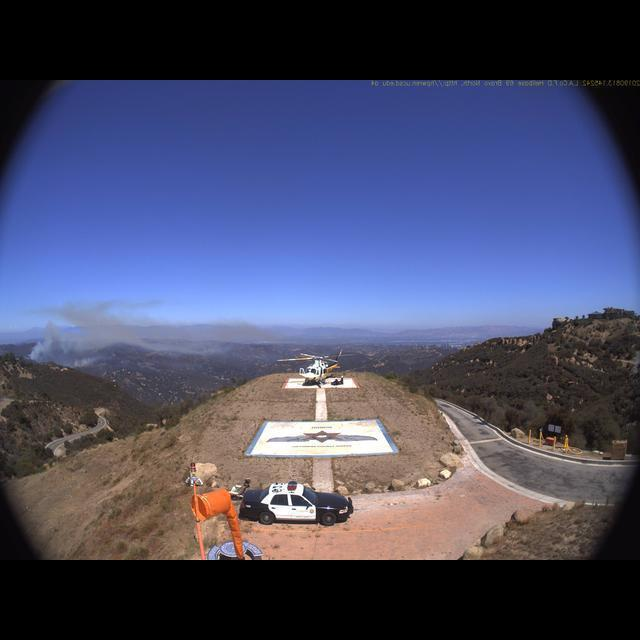Smoke: (29, 292, 197, 367)
